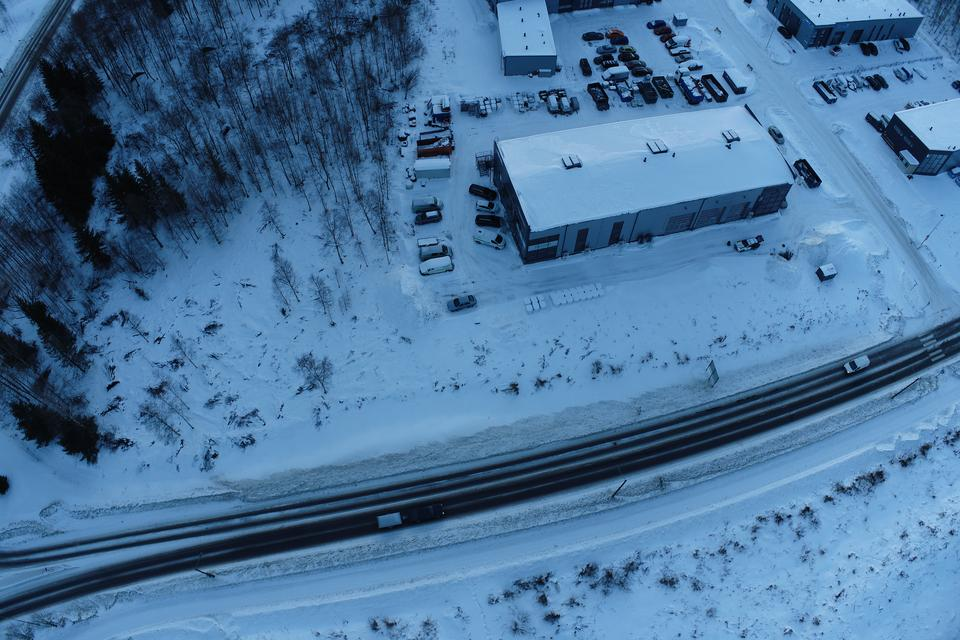intersection: (876, 257, 960, 376)
